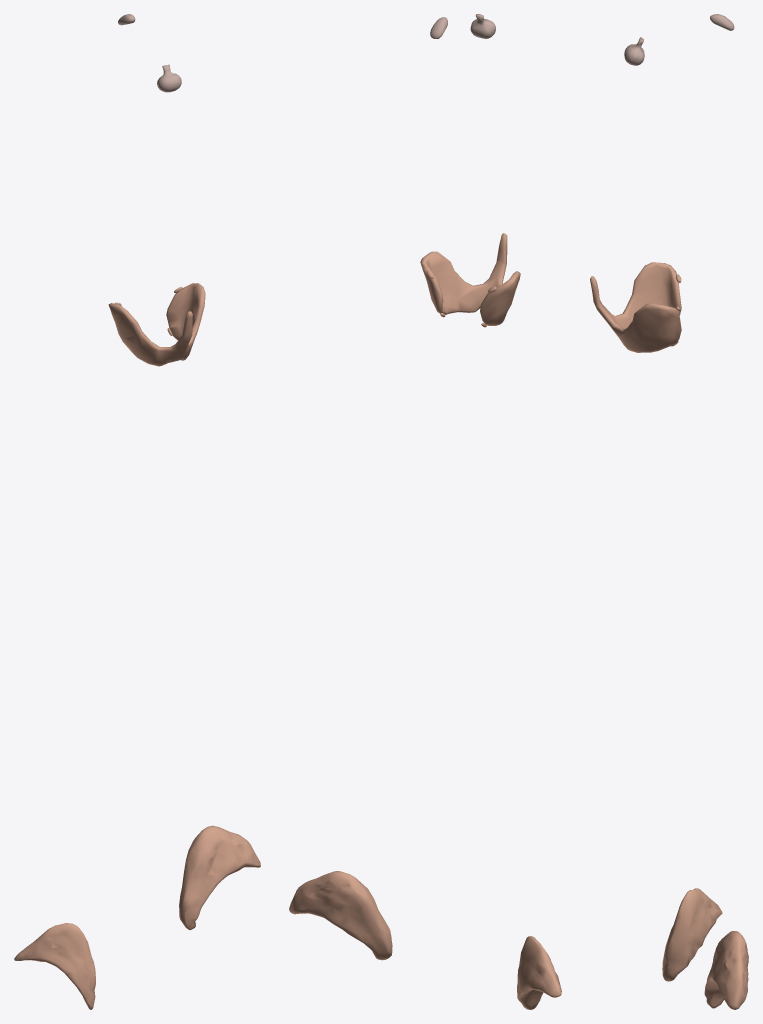
File: adult_male.endocrine.LOD1.glb
3 renders of one model, left to right at view 1: azimuth 30°, elevation 25°; view 2: azimuth 150°, elevation 25°; view 3: azimuth 270°, elevation 25°, orthographic. The views are drawn at different scales.
Parts seen in each view (by area): view 1: ADULT.MALE.ENDOCRINE.SUPRARENAL_GLAND.L, ADULT.MALE.ENDOCRINE.THYROID_GLAND, ADULT.MALE.ENDOCRINE.SUPRARENAL_GLAND.R; view 2: ADULT.MALE.ENDOCRINE.SUPRARENAL_GLAND.L, ADULT.MALE.ENDOCRINE.THYROID_GLAND, ADULT.MALE.ENDOCRINE.SUPRARENAL_GLAND.R; view 3: ADULT.MALE.ENDOCRINE.THYROID_GLAND, ADULT.MALE.ENDOCRINE.SUPRARENAL_GLAND.R, ADULT.MALE.ENDOCRINE.SUPRARENAL_GLAND.L.
Boxes of the visible parts, x1=… form: ADULT.MALE.ENDOCRINE.SUPRARENAL_GLAND.L: x1=179, y1=825, x2=260, y2=930; ADULT.MALE.ENDOCRINE.THYROID_GLAND: x1=108, y1=283, x2=205, y2=366; ADULT.MALE.ENDOCRINE.SUPRARENAL_GLAND.R: x1=14, y1=923, x2=95, y2=1009; ADULT.MALE.ENDOCRINE.SUPRARENAL_GLAND.L: x1=289, y1=871, x2=392, y2=960; ADULT.MALE.ENDOCRINE.THYROID_GLAND: x1=420, y1=233, x2=520, y2=325; ADULT.MALE.ENDOCRINE.SUPRARENAL_GLAND.R: x1=517, y1=936, x2=561, y2=1009; ADULT.MALE.ENDOCRINE.THYROID_GLAND: x1=590, y1=262, x2=681, y2=352; ADULT.MALE.ENDOCRINE.SUPRARENAL_GLAND.R: x1=662, y1=888, x2=722, y2=981; ADULT.MALE.ENDOCRINE.SUPRARENAL_GLAND.L: x1=704, y1=931, x2=748, y2=1009.
Size of the model in its own units: 0.1379 by 0.4994 by 0.0721.
